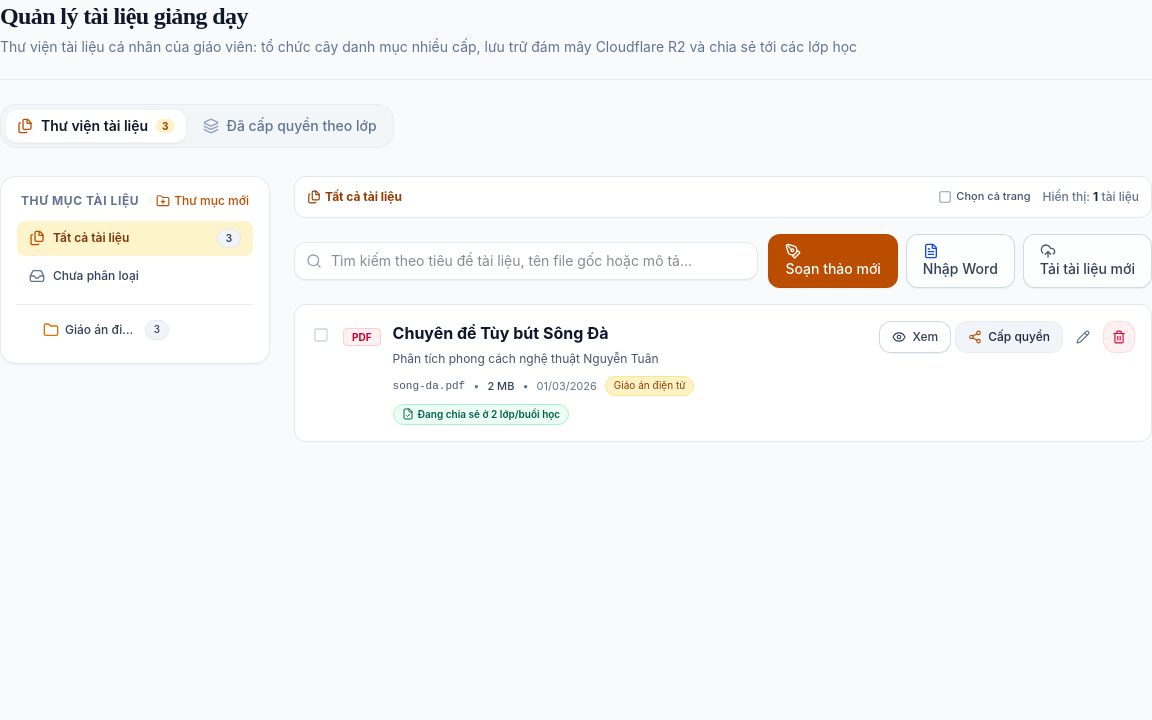
Test case: TeacherDocumentsPage › selects a document and opens assign modal via "Cấp quyền"
Check: the heading "Chuyên đề Tùy bút Sông Đà" is shown, box left=393, top=323, right=609, bottom=343
What coordinates should you click on to do the following:
click the button titled "Cấp quyền cho lớp học"
I would click on:
 (1009, 337)
Its box is left=955, top=321, right=1063, bottom=353.
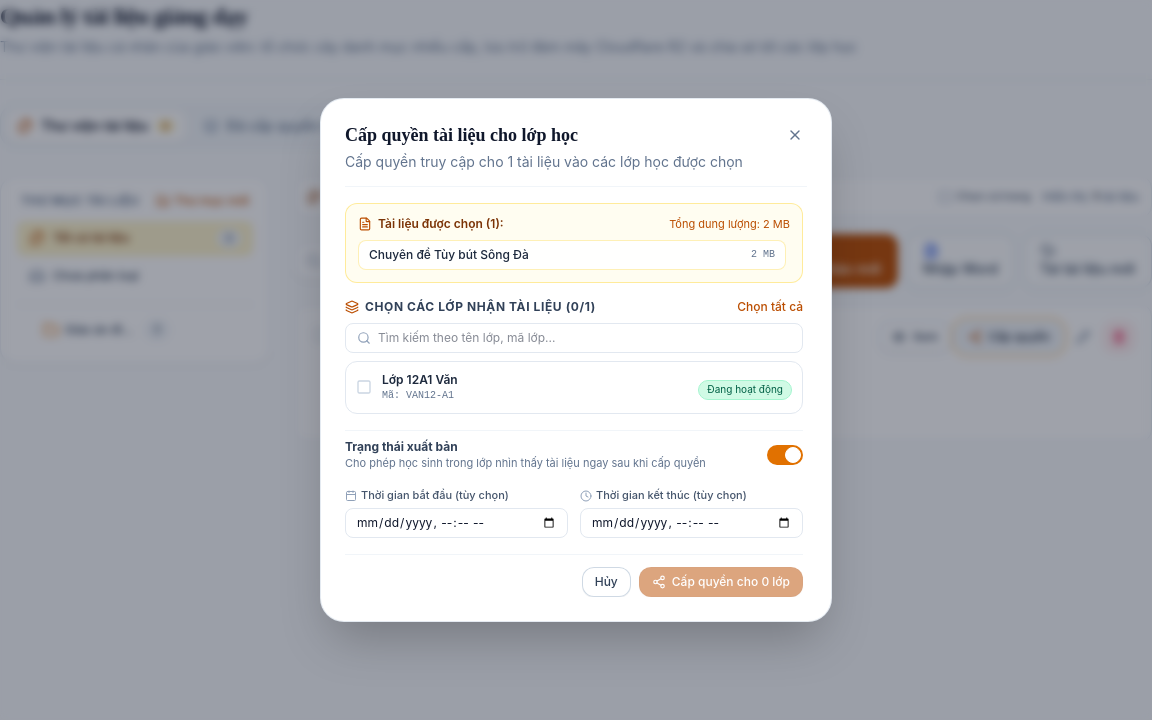
Check: the heading "Cấp quyền tài liệu cho lớp học" is shown, box left=345, top=125, right=578, bottom=145
